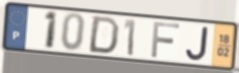0: (58, 11, 88, 54)
1: (43, 10, 58, 51), (123, 18, 138, 58)
D: (86, 15, 122, 56)
F: (150, 20, 182, 59)
J: (184, 25, 210, 63)
